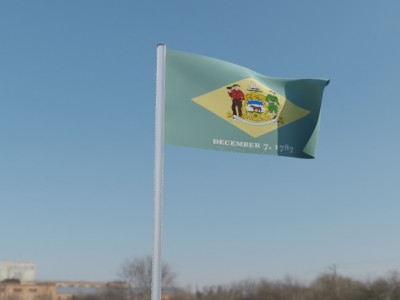Delaware flag: (164, 46, 331, 161)
